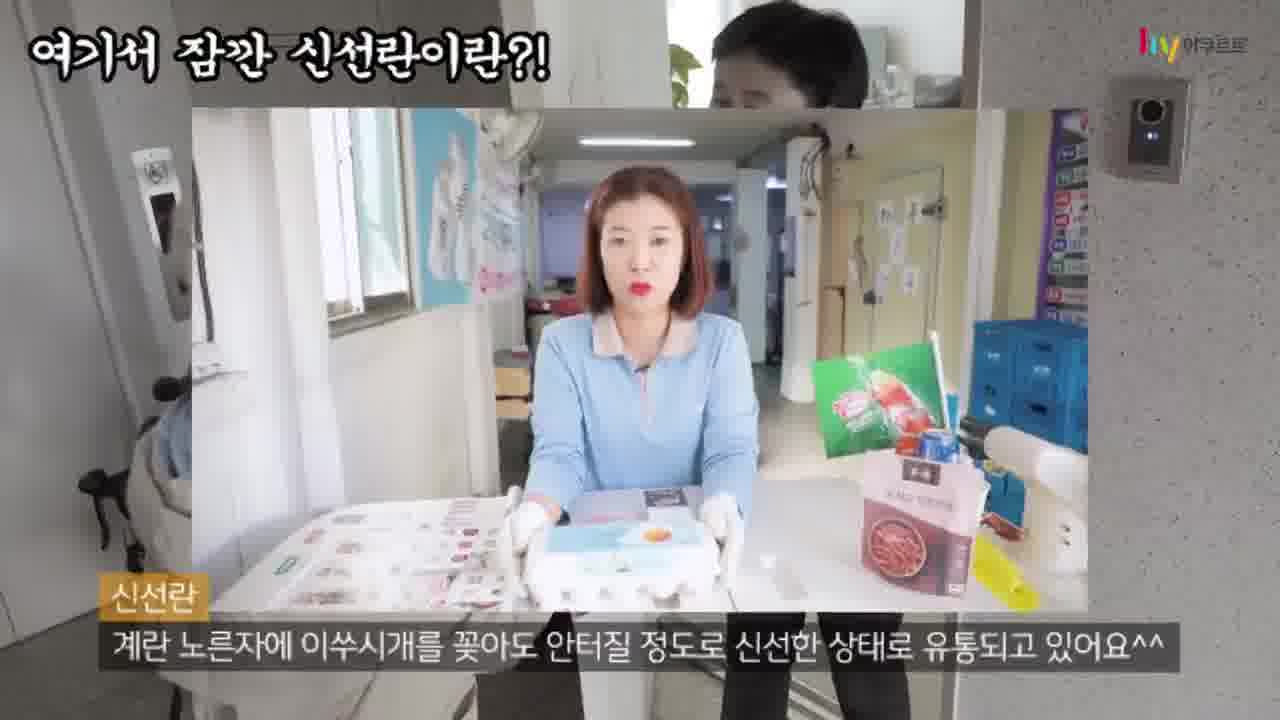Yakurut: (481, 152, 776, 527)
